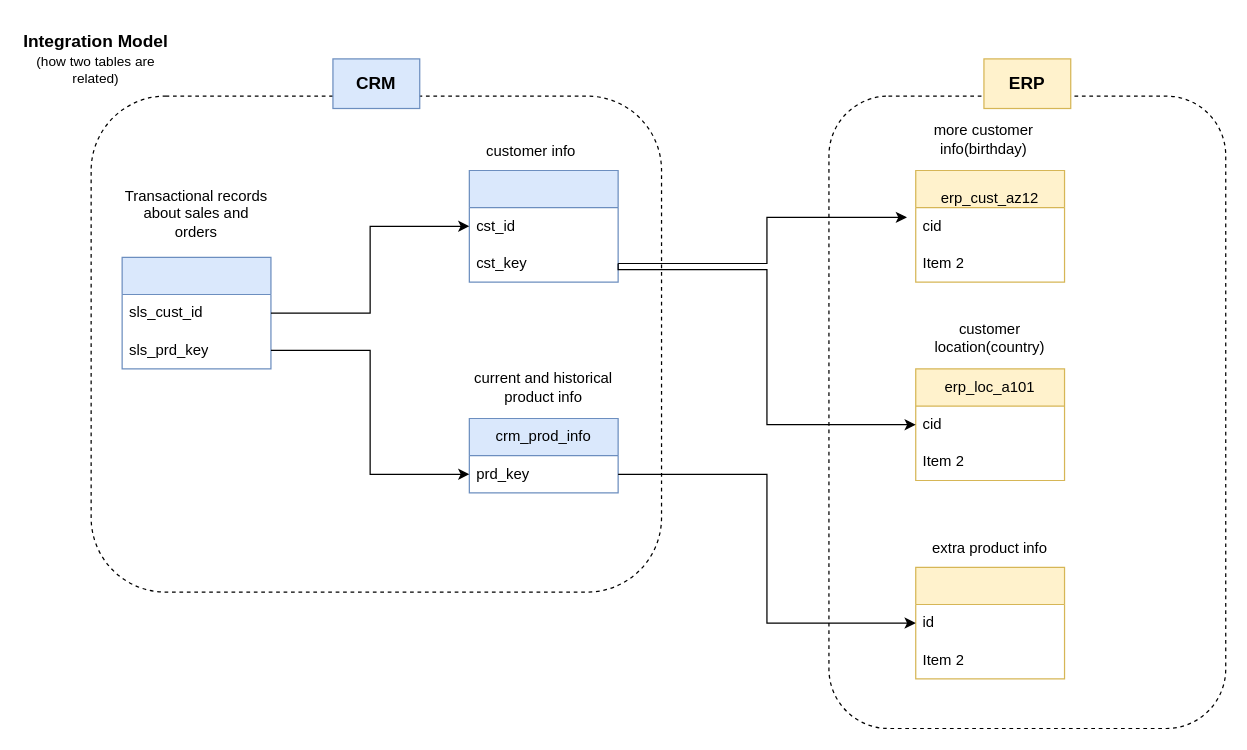
This 1247x750 diagram has some shape labels left out. The box of each missing label's shape, as (x1, y1, x2, y2) in pixels:
crm_cust_info: (468, 169, 618, 282)
crm_sales_details: (121, 256, 271, 369)
erp_px_cat_g1v2: (914, 566, 1065, 679)
